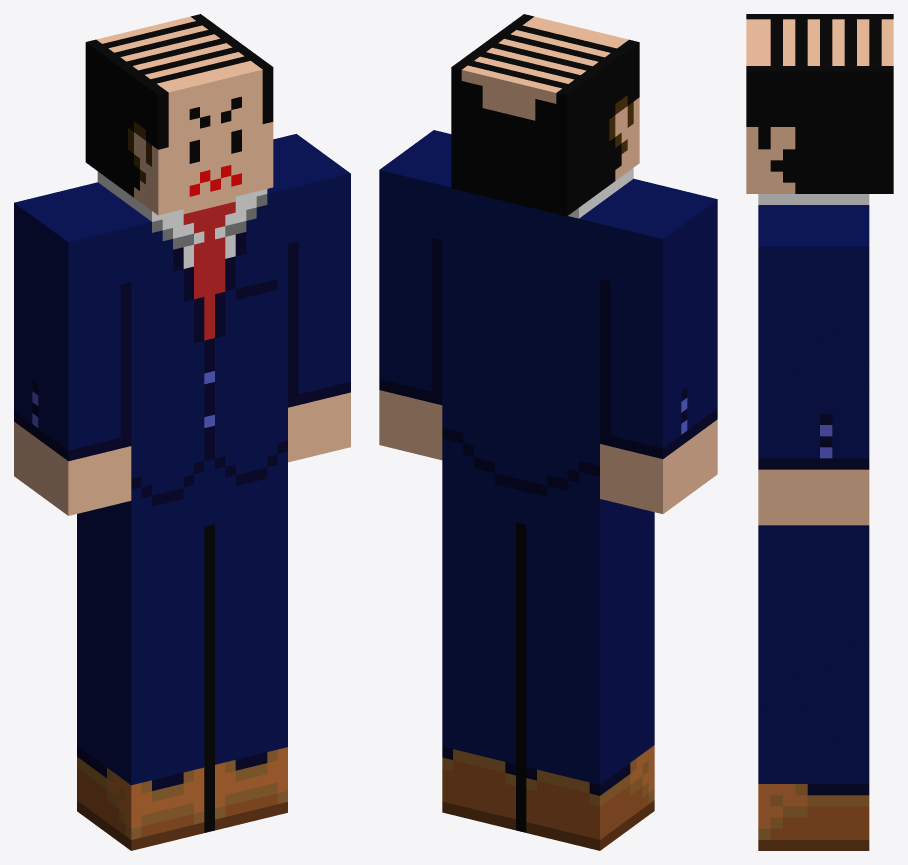
The model's file is ri-man.oko.fbx.
3 renders of one model, left to right at view 1: azimuth 30°, elevation 25°; view 2: azimuth 150°, elevation 25°; view 3: azimuth 270°, elevation 25°, orthographic.
Visible parts, largest first — view 1: ObjObject.008; view 2: ObjObject.008; view 3: ObjObject.008.
Boxes of the visible parts, box(x1,y1,x2,y2) form: ObjObject.008: box(14, 14, 350, 850); ObjObject.008: box(379, 14, 717, 850); ObjObject.008: box(746, 14, 893, 850).
Size of the model in its own units: 270 by 690 by 120.
